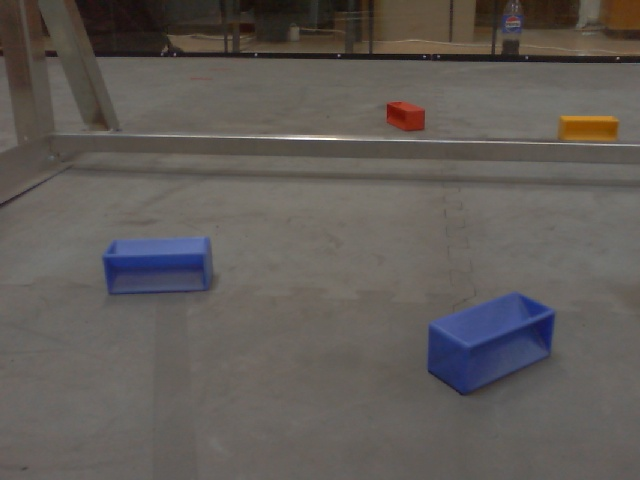BlueSample: (417, 288, 558, 399), (99, 236, 217, 297)
RedSample: (383, 99, 428, 133)
YellowSample: (554, 113, 621, 145)
